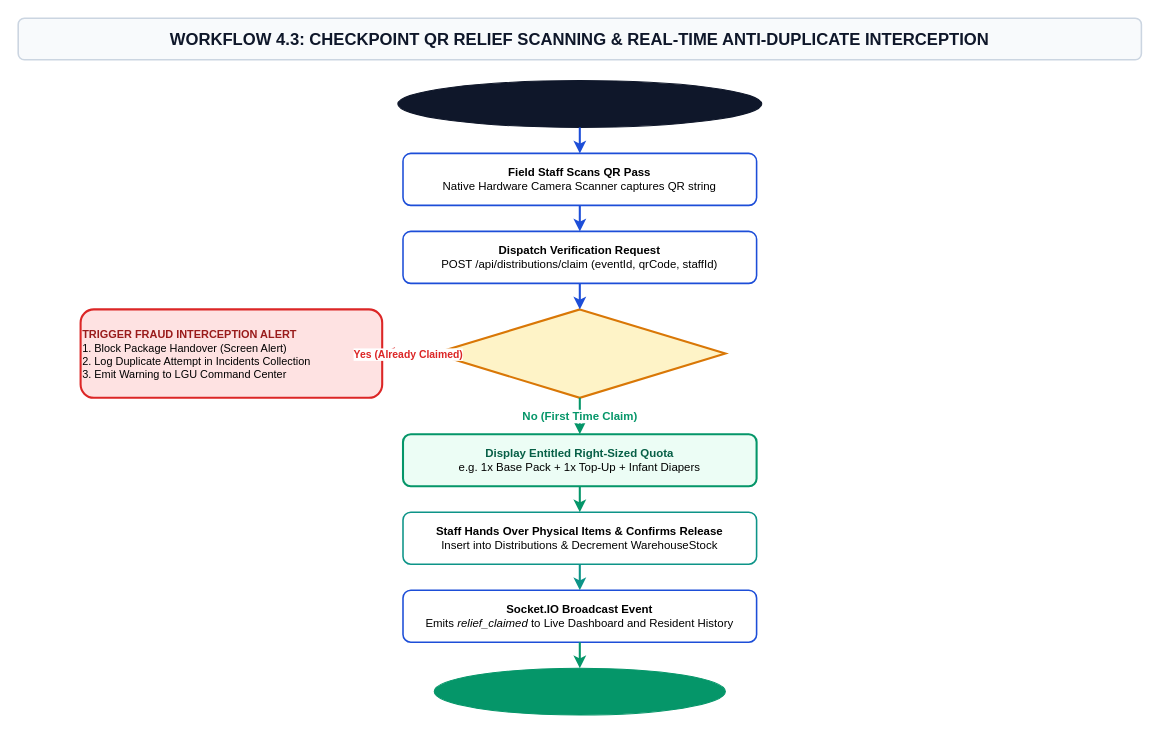
This 1161x734 diagram has some shape labels left out. Each missing label, with the centre of its shape:
"Does Claim Record Exist for (qrCode + eventId)?" belongs at [579,353].
"End: Relief Successfully Dispatched & Logged" belongs at [579,691].
"Start: Resident Presents QR Pass at Distribution Booth" belongs at [579,103].
